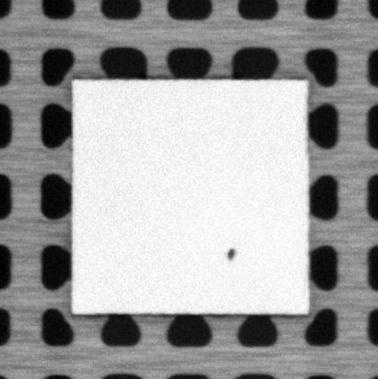DIE_INK: (225, 246, 237, 261)
